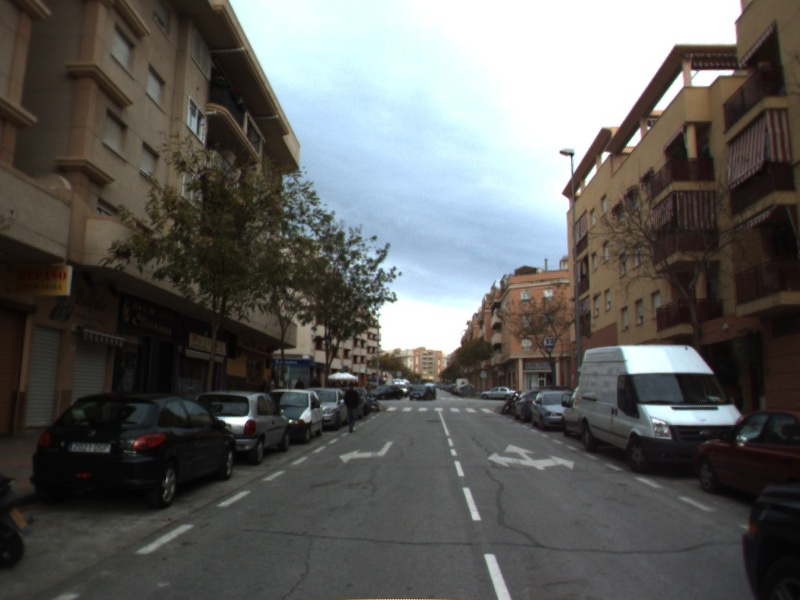STRAIGHT_LEFT_RIGHT: (485, 442, 577, 472)
